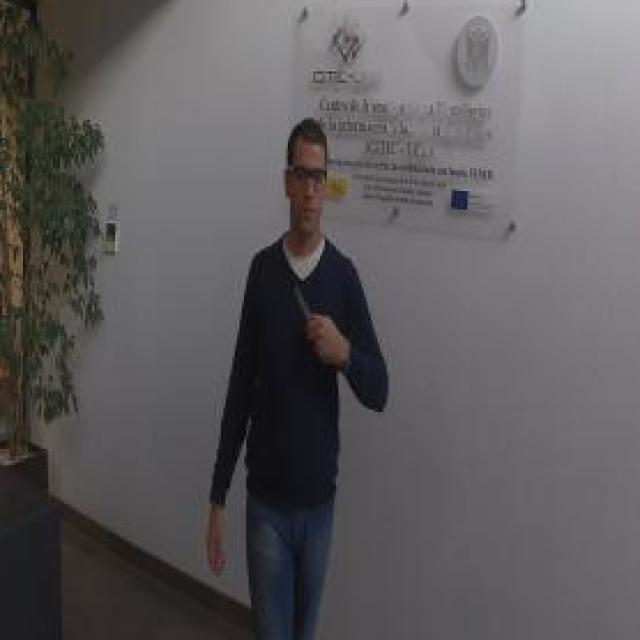knife: (292, 278, 322, 346)
